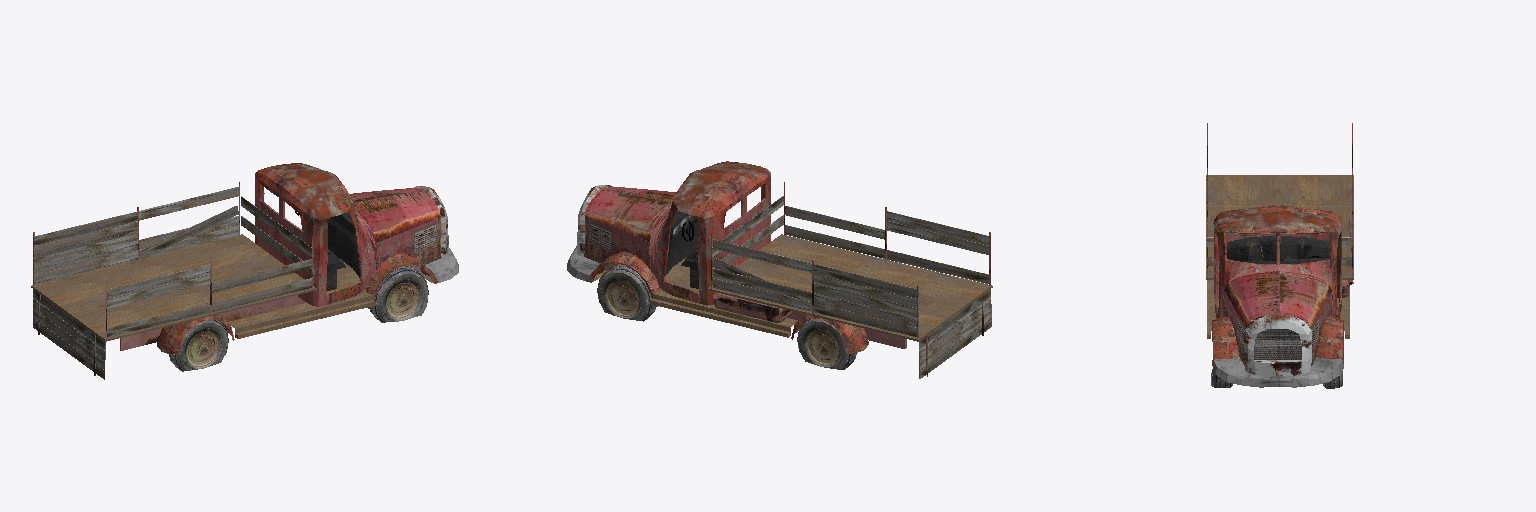
3 renders of one model, left to right at view 1: azimuth 30°, elevation 25°; view 2: azimuth 150°, elevation 25°; view 3: azimuth 270°, elevation 25°, orthographic.
Parts seen in each view (by area): view 1: Truck; view 2: Truck; view 3: Truck.
Part boxes in pixels (x1,y1,x2,y2): Truck: (31,163,458,379); Truck: (567,161,992,378); Truck: (1206,123,1353,388).
Size of the model in its own units: 9.17 by 3.15 by 3.12.
1 materials, 1 textured.